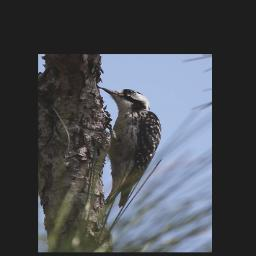Woodpecker: (93, 80, 167, 214)
